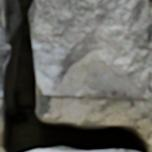brick: (30, 149, 135, 151)
broken_brick: (30, 0, 147, 98), (0, 0, 11, 97)
crack: (0, 0, 150, 151)
